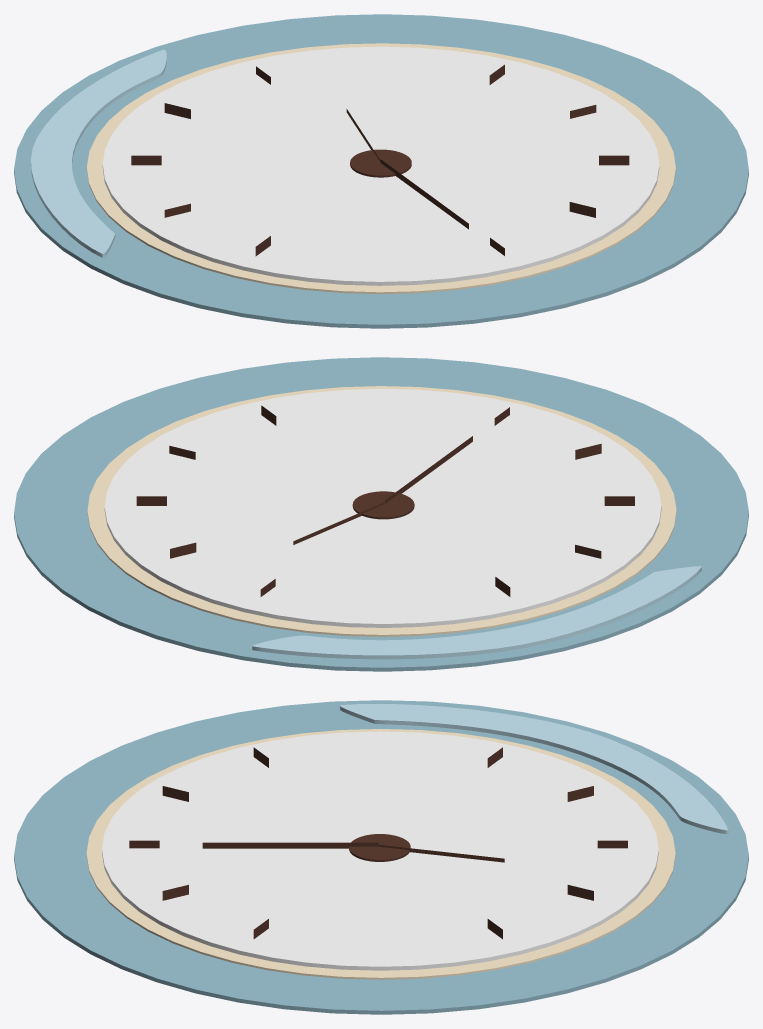
The model's file is emoji_u1f567.glb.
3 views of the same model, one above another, from view 1: azimuth 30°, elevation 25°; view 2: azimuth 150°, elevation 25°; view 3: azimuth 270°, elevation 25° (orthographic).
Visible parts, largest first — view 1: emoji_u1f567; view 2: emoji_u1f567; view 3: emoji_u1f567.
Part boxes in pixels (<box>): emoji_u1f567: <box>14,14,748,328</box>; emoji_u1f567: <box>14,357,748,671</box>; emoji_u1f567: <box>14,700,748,1014</box>.
Bounding box in the file's own units: 0.0339 × 0.0018 × 0.0339.
